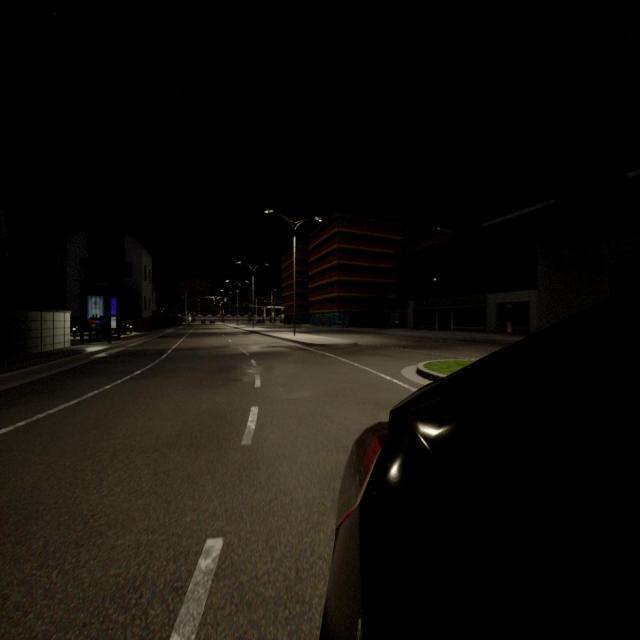Vehicle: (326, 304, 640, 638), (257, 317, 264, 323), (201, 319, 206, 325), (210, 319, 215, 324)
traffic_light: (224, 297, 227, 302), (198, 298, 200, 302), (213, 298, 215, 301), (244, 304, 245, 307)
